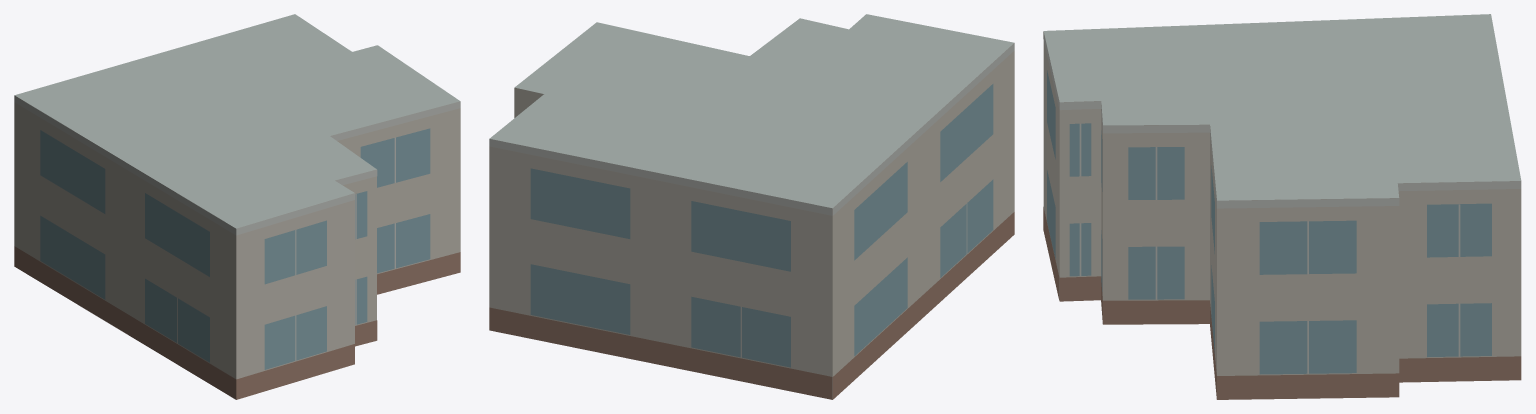
Rendered from survey-upis-32940650.glb.
The picture shows the model from 3 angles, left to right: view 1: azimuth 30°, elevation 25°; view 2: azimuth 150°, elevation 25°; view 3: azimuth 270°, elevation 25°; orthographic projection. The views are drawn at different scales.
Visible parts, largest first — view 1: survey-upis-32940650.tmp; view 2: survey-upis-32940650.tmp; view 3: survey-upis-32940650.tmp.
Boxes of the visible parts, left/top/right/bottom form: survey-upis-32940650.tmp: left=14, top=14, right=460, bottom=399; survey-upis-32940650.tmp: left=489, top=14, right=1014, bottom=399; survey-upis-32940650.tmp: left=1043, top=14, right=1521, bottom=399.
Size of the model in its own units: 12.26 by 6.1 by 13.27.
